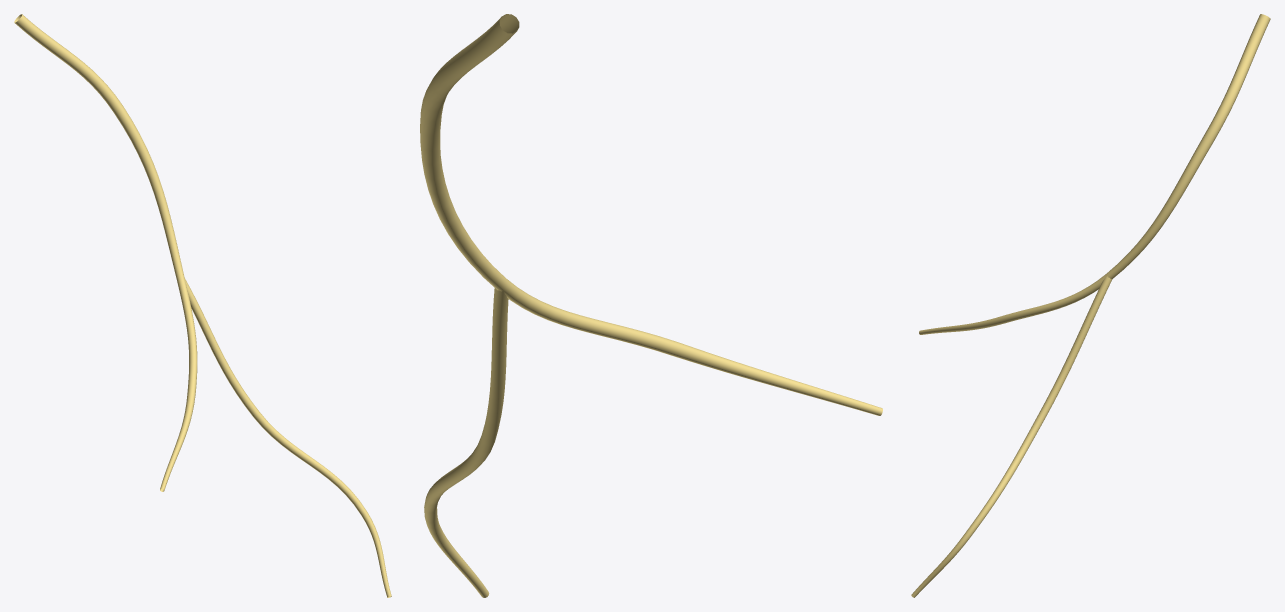
3 renders of one model, left to right at view 1: azimuth 30°, elevation 25°; view 2: azimuth 150°, elevation 25°; view 3: azimuth 270°, elevation 25°, orthographic. The views are drawn at different scales.
Parts seen in each view (by area): view 1: ZA_a69b9a7197ba83b0; view 2: ZA_a69b9a7197ba83b0; view 3: ZA_a69b9a7197ba83b0.
Boxes of the visible parts, x1,y1,x2,y2 form: ZA_a69b9a7197ba83b0: (14,14,391,597); ZA_a69b9a7197ba83b0: (420,14,882,597); ZA_a69b9a7197ba83b0: (911,14,1270,597).
Size of the model in its own units: 0.0456 by 0.0932 by 0.0617.
